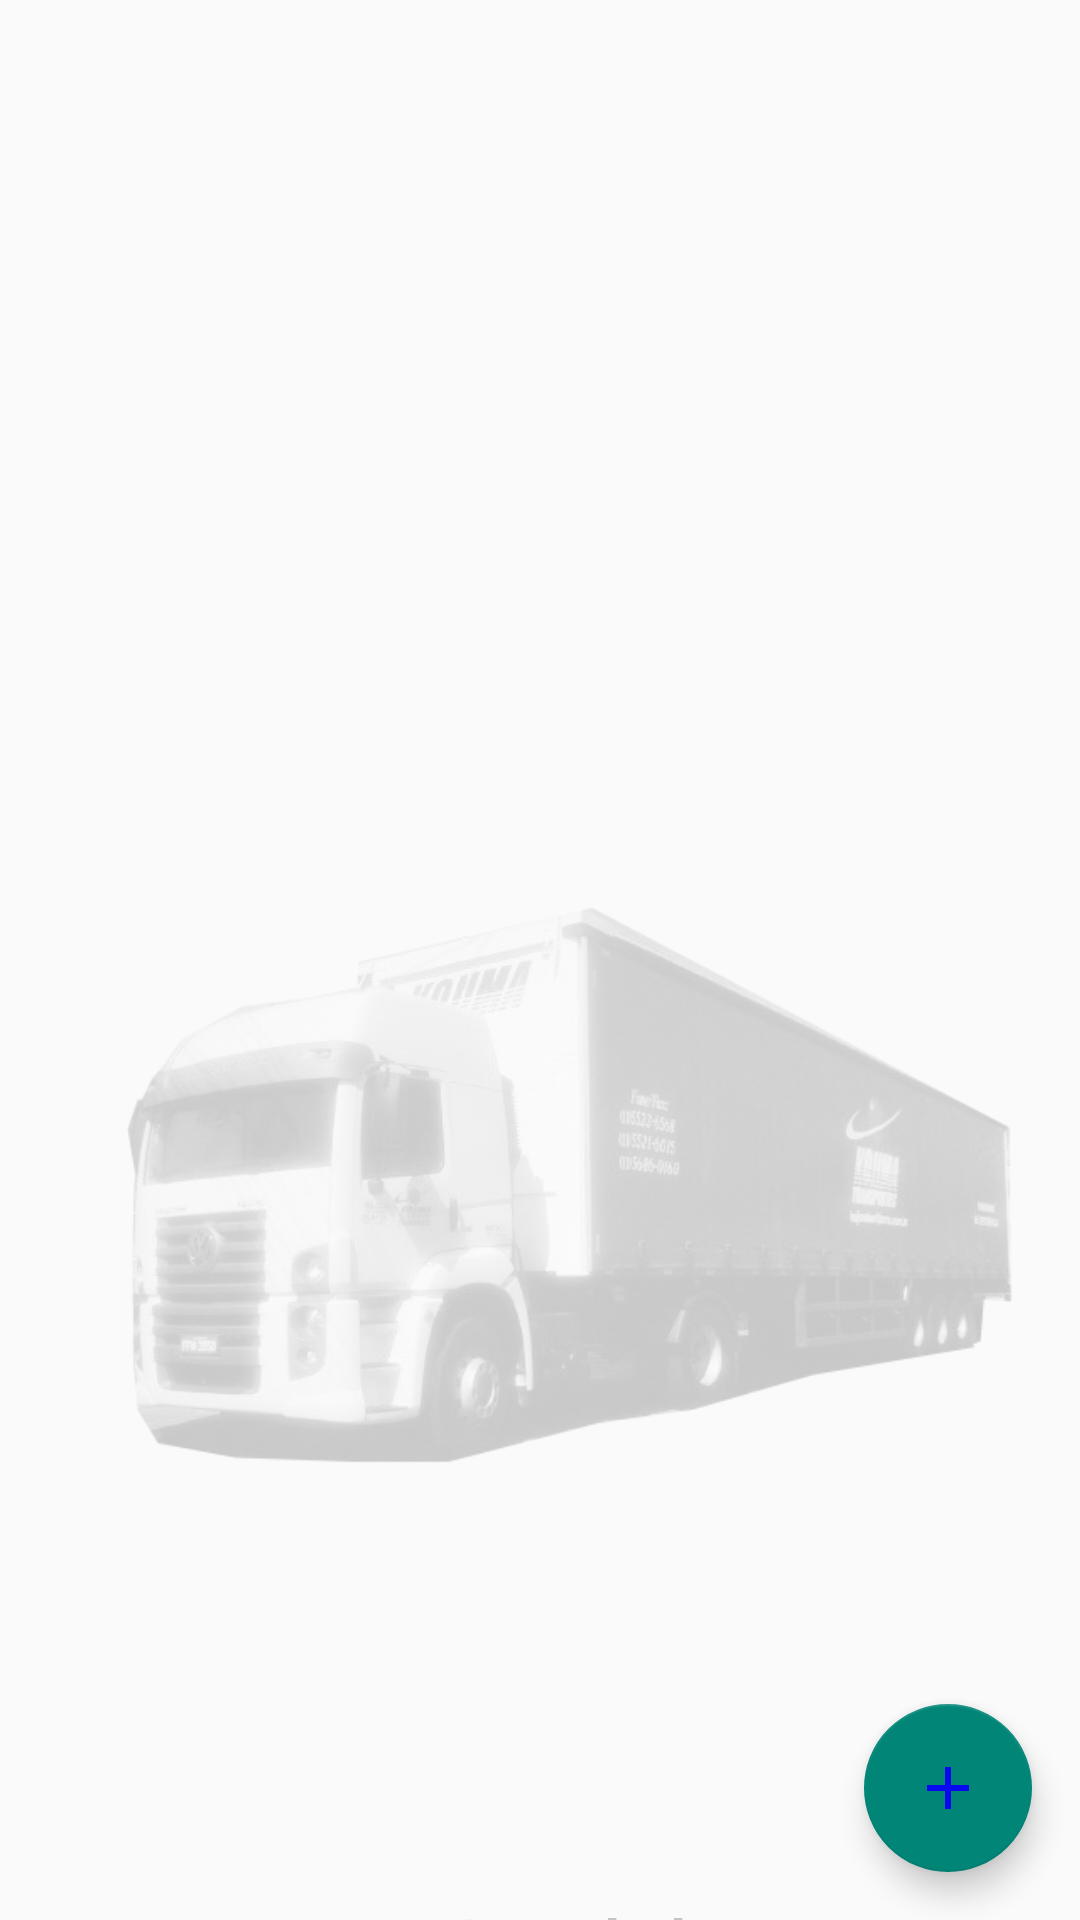

Screen size 1080px x 1920px. Icon name, then its box in pixels as (x1, y1, x2, y2):
adicionar: (864, 1704, 1032, 1872)
